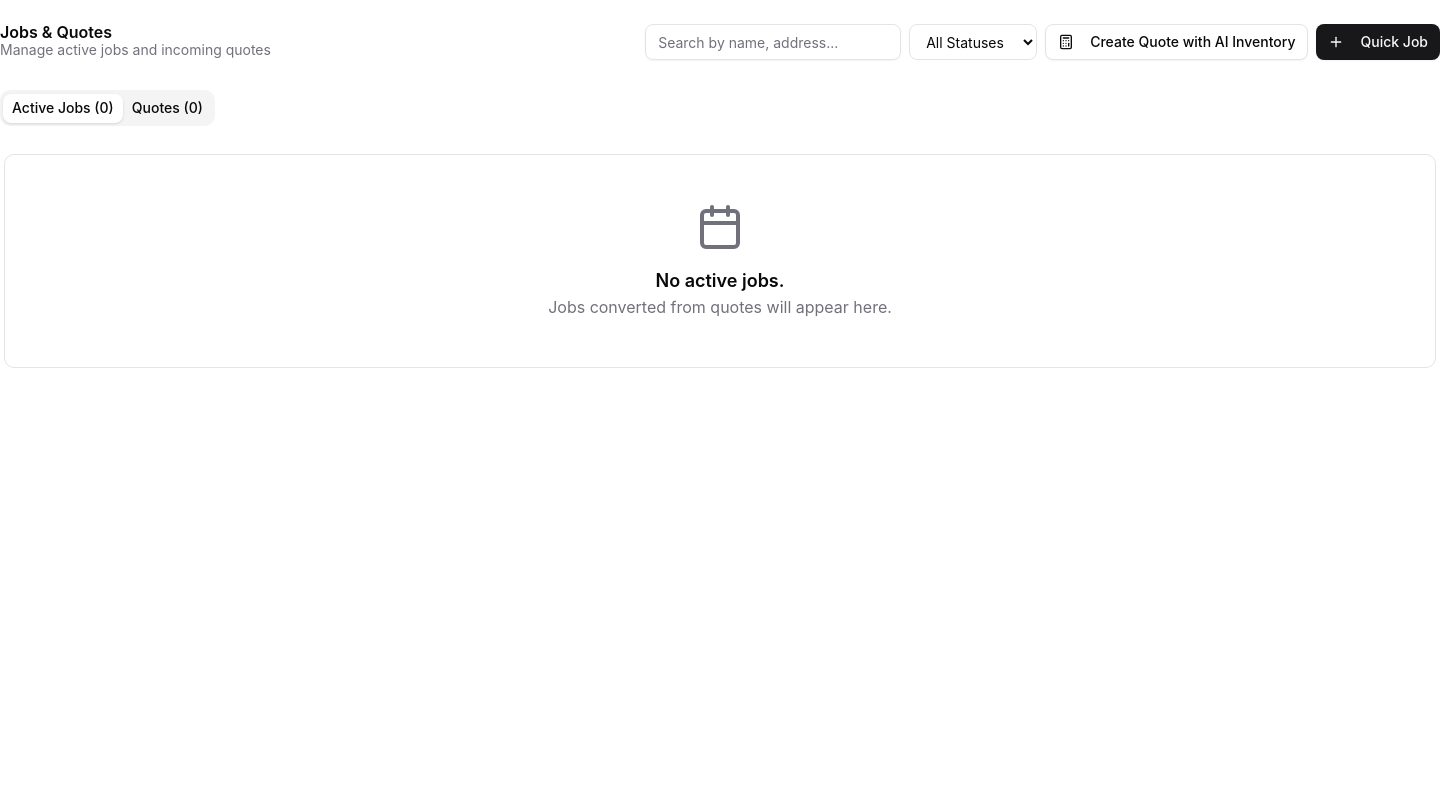
Test: JobsView › opens create job dialog
Click the button "Quick Job" at (1378, 42), box [1316,24,1439,60]
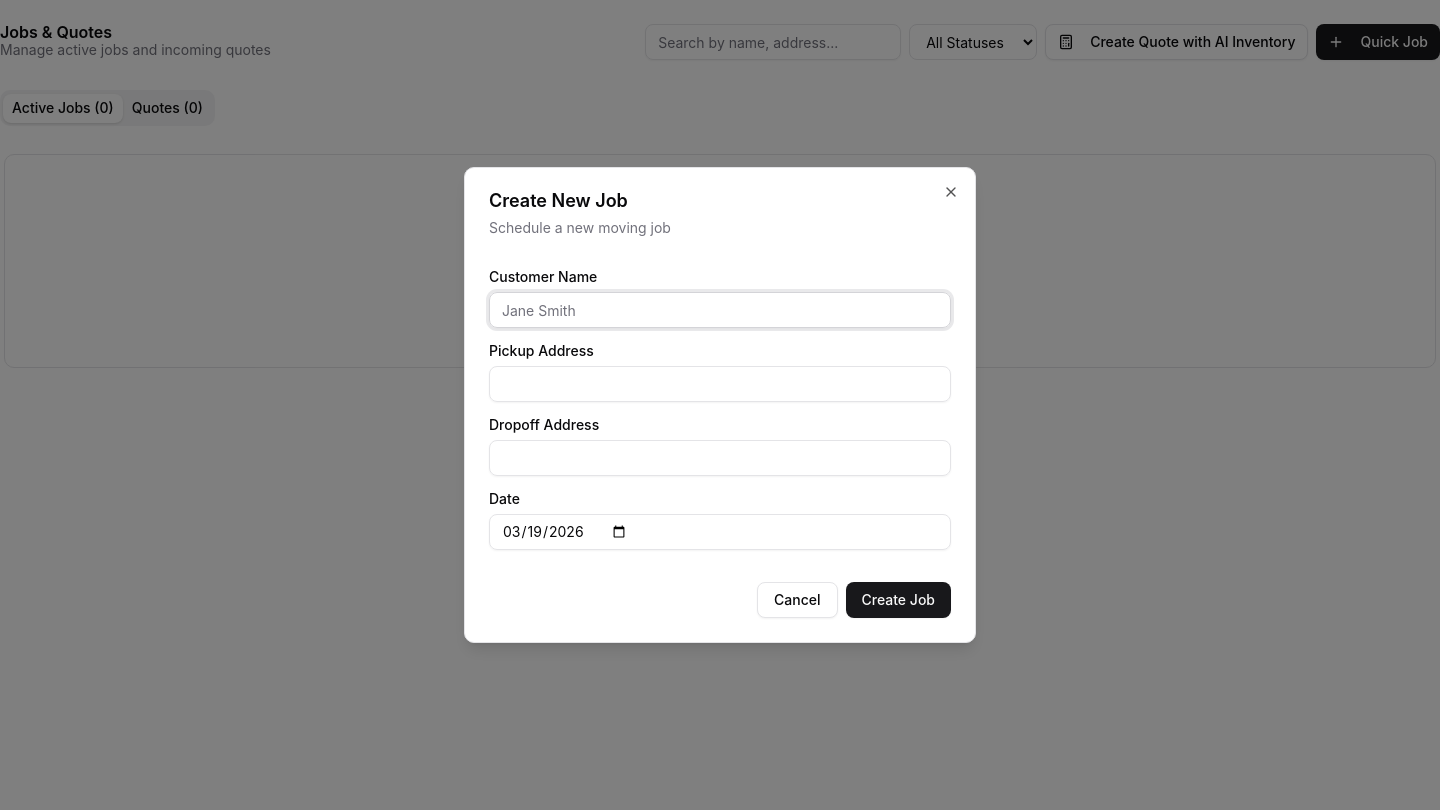
Expected: the heading "Create New Job" is shown, [489,190,628,211]
Expected: the field labelled "Customer Name" is shown, [489,292,951,328]
